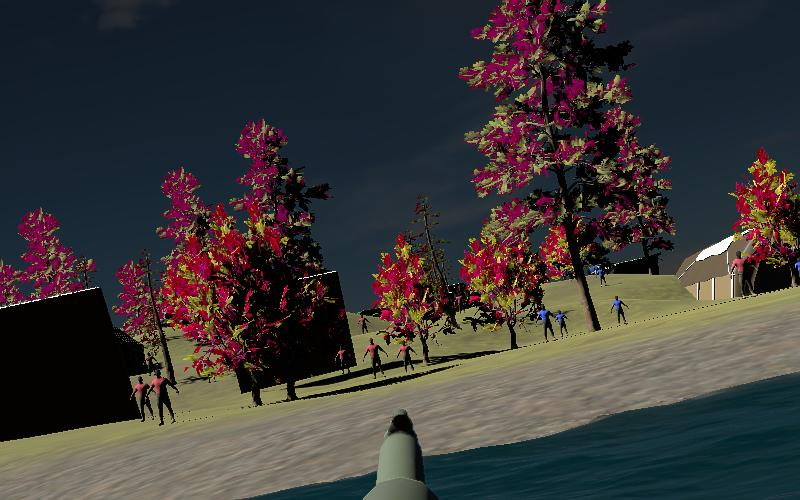Human: (146, 368, 179, 426), (729, 249, 755, 302), (130, 374, 154, 424), (609, 294, 631, 329)
